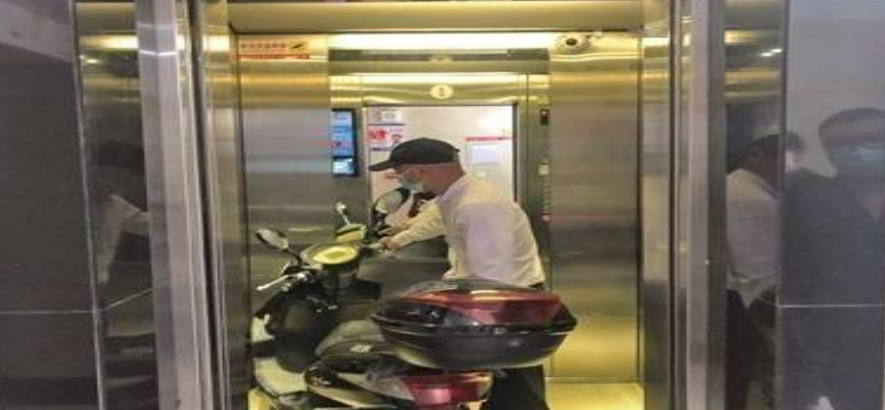ebike: (251, 187, 572, 408)
person: (360, 137, 551, 291)
